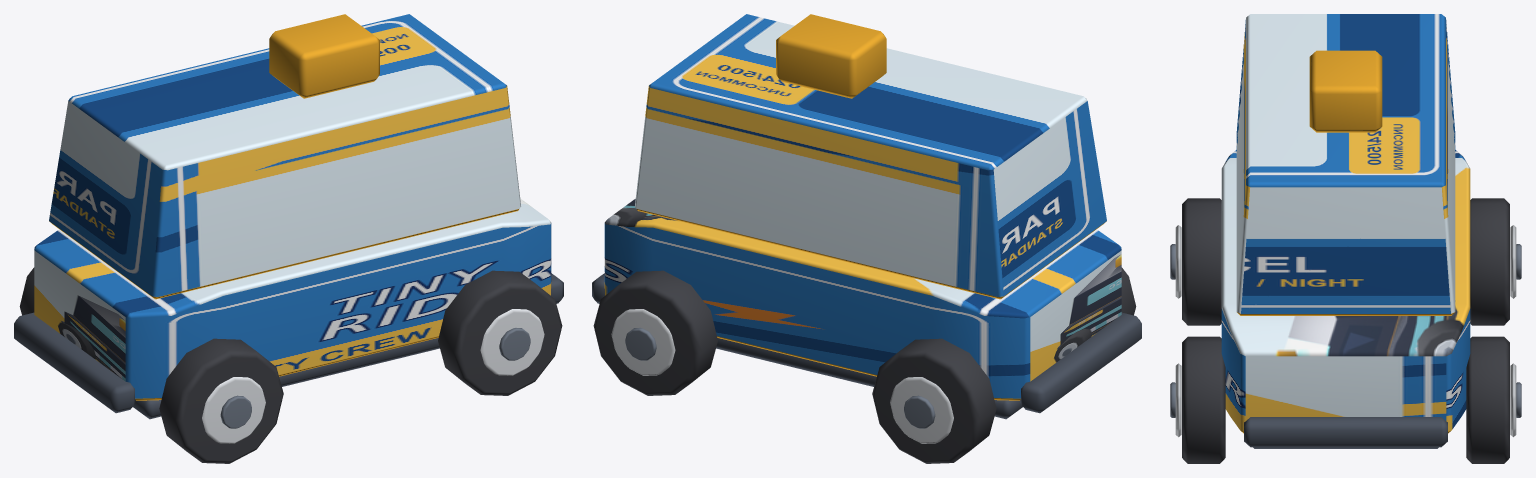
3 renders of one model, left to right at view 1: azimuth 30°, elevation 25°; view 2: azimuth 150°, elevation 25°; view 3: azimuth 270°, elevation 25°, orthographic.
Parts seen in each view (by area): view 1: CC-03_cabin, CC-03_connected_shell, Tire, Tire.002, roof sign, front bumper, Rim.002, Rim, underbody, Hub.002, Hub; view 2: CC-03_cabin, CC-03_connected_shell, Tire.001, Tire.003, roof sign, front bumper, Rim.003, Rim.001, underbody, Hub.003, Hub.001; view 3: CC-03_cabin, CC-03_connected_shell, rear bumper, roof sign, Tire.002, Tire.003, Tire, Tire.001, Rim, Rim.001, Rim.002, Rim.003 (+1 smaller).
Boxes of the visible parts, box(x1,y1,x2,y2) form: CC-03_cabin: box(49, 14, 520, 299); CC-03_connected_shell: box(34, 199, 551, 400); Tire: box(159, 338, 283, 463); Tire.002: box(438, 270, 562, 395); roof sign: box(269, 14, 379, 98); front bumper: box(14, 312, 135, 413); Rim.002: box(480, 309, 544, 375); Rim: box(202, 377, 265, 443); underbody: box(133, 338, 439, 419); Hub.002: box(499, 328, 530, 360); Hub: box(220, 395, 251, 428); CC-03_cabin: box(635, 14, 1106, 299); CC-03_connected_shell: box(604, 199, 1121, 400); Tire.001: box(872, 338, 996, 463); Tire.003: box(593, 270, 717, 395); roof sign: box(776, 14, 886, 98); front bumper: box(1020, 312, 1141, 413); Rim.003: box(611, 309, 675, 375); Rim.001: box(890, 377, 953, 443); underbody: box(716, 338, 1022, 419); Hub.003: box(625, 328, 656, 360); Hub.001: box(904, 395, 935, 428); CC-03_cabin: box(1236, 14, 1455, 315); CC-03_connected_shell: box(1221, 150, 1470, 433); rear bumper: box(1244, 417, 1447, 447); roof sign: box(1309, 50, 1382, 132); Tire.002: box(1182, 336, 1225, 463); Tire.003: box(1466, 336, 1509, 463); Tire: box(1182, 198, 1221, 325); Tire.001: box(1470, 198, 1509, 325); Rim: box(1175, 225, 1181, 298); Rim.001: box(1510, 225, 1516, 298); Rim.002: box(1175, 363, 1181, 437); Rim.003: box(1510, 363, 1516, 437).
Bounding box in the file's own units: 318 × 222 × 209.
